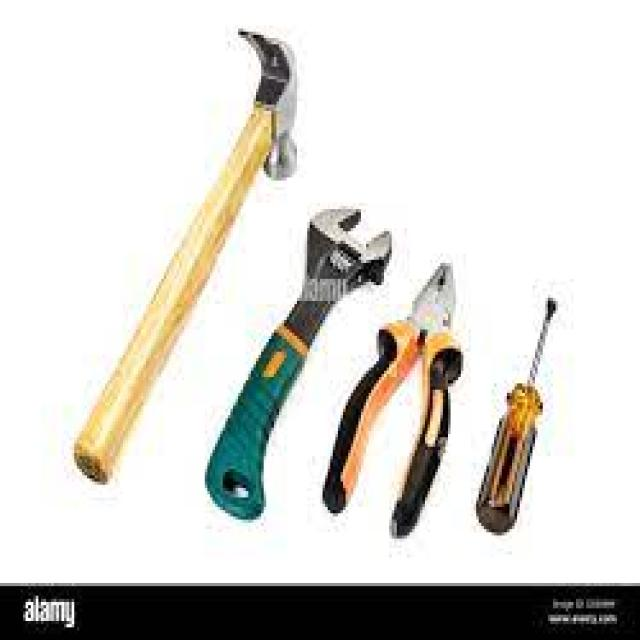Screwdriver: (476, 297, 558, 533)
